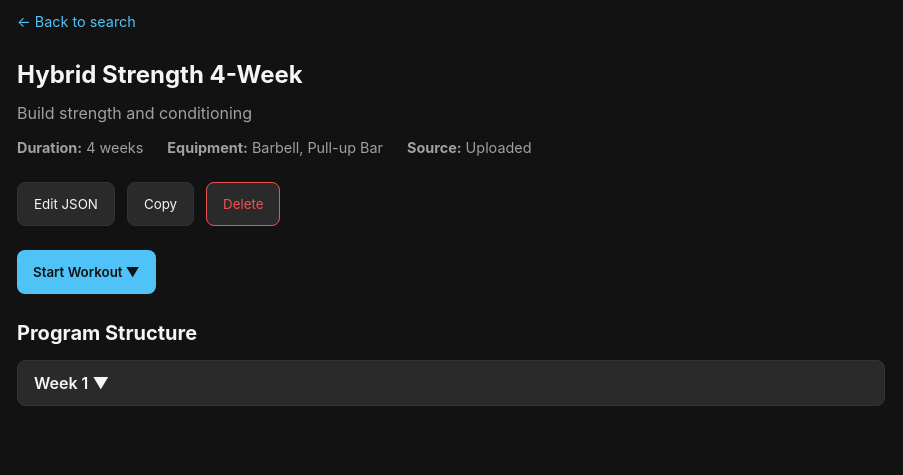
it: ProgramDetailPage › expands week to show days when week button is clicked
Click the button "Week 1 ▼" at coordinates (58, 383), box [17,360,885,406]
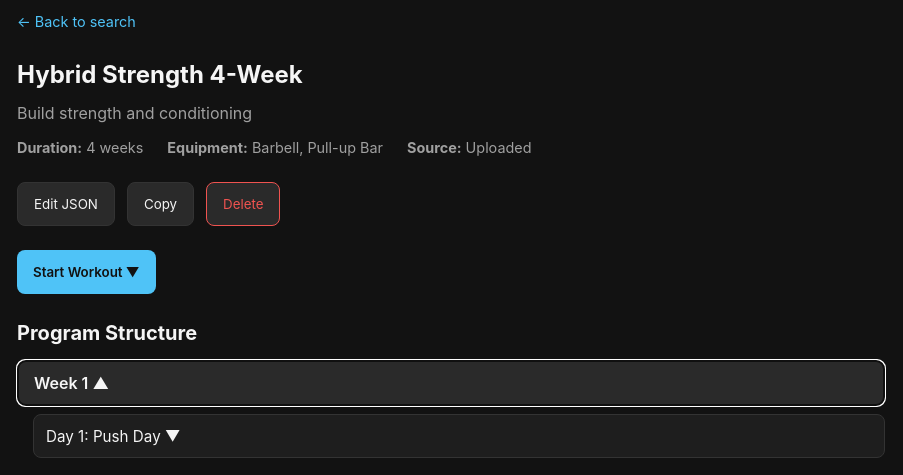
Check: the button "Week 1 ▲" is expanded, box [17,360,885,406]
Check: the button "Day 1: Push Day ▼" is shown, box [33,414,885,458]
